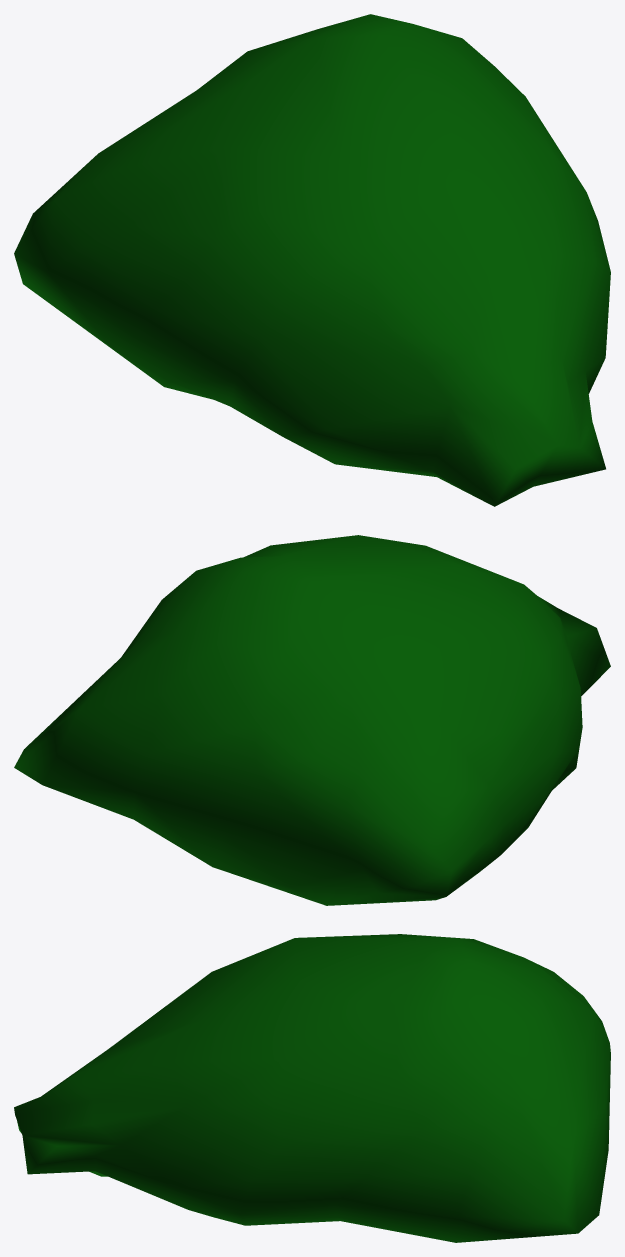
The model's file is sackful03.FBX.
3 views of the same model, one above another, from view 1: azimuth 30°, elevation 25°; view 2: azimuth 150°, elevation 25°; view 3: azimuth 270°, elevation 25° (orthographic). The views are drawn at different scales.
Parts seen in each view (by area): view 1: SM_sackful03_0; view 2: SM_sackful03_0; view 3: SM_sackful03_0.
Boxes of the visible parts, box(x1,y1,x2,y2) form: SM_sackful03_0: box(14, 14, 610, 506); SM_sackful03_0: box(14, 535, 610, 905); SM_sackful03_0: box(14, 934, 610, 1242).
Bounding box in the file's own units: 62.25 × 76.34 × 40.59.
